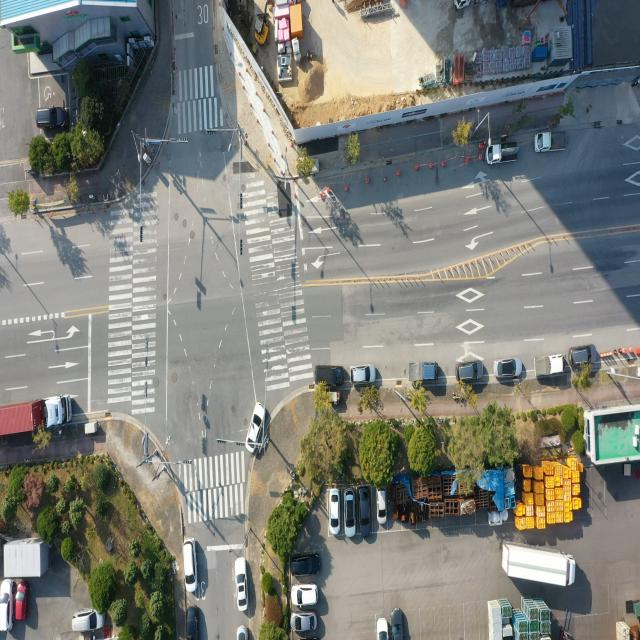car: (246, 402, 265, 452), (71, 610, 104, 636), (183, 538, 197, 592), (36, 105, 66, 129), (314, 365, 344, 389), (292, 556, 321, 579), (494, 356, 523, 379), (236, 559, 248, 611), (358, 489, 371, 537), (0, 579, 12, 631), (569, 345, 596, 368), (349, 362, 376, 385), (459, 360, 486, 382), (346, 491, 358, 538), (328, 490, 340, 536), (292, 585, 317, 607), (292, 615, 316, 635), (14, 582, 26, 622), (185, 606, 198, 640), (378, 490, 388, 524), (393, 615, 404, 640), (378, 619, 391, 640), (238, 626, 248, 640)
large_truck: (0, 396, 72, 441)
medium_truck: (502, 544, 577, 588), (454, 0, 490, 12)
small_truck: (406, 358, 439, 383), (536, 354, 568, 378), (536, 132, 568, 154), (486, 143, 519, 164)
